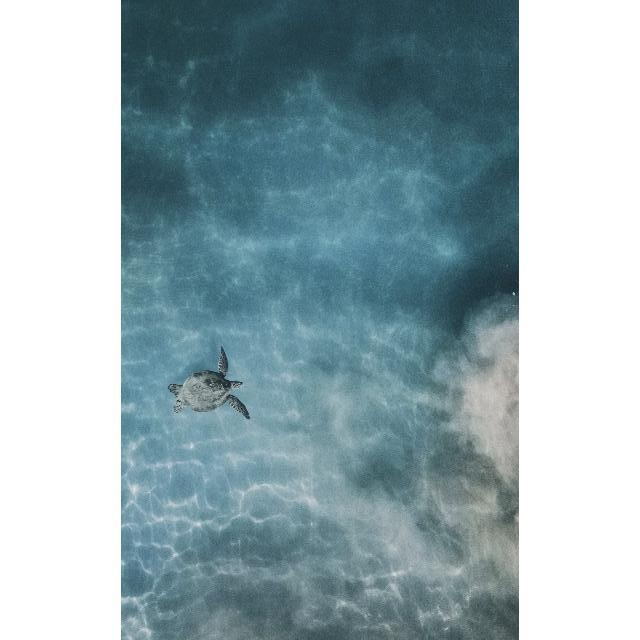turtle: (167, 344, 249, 419)
